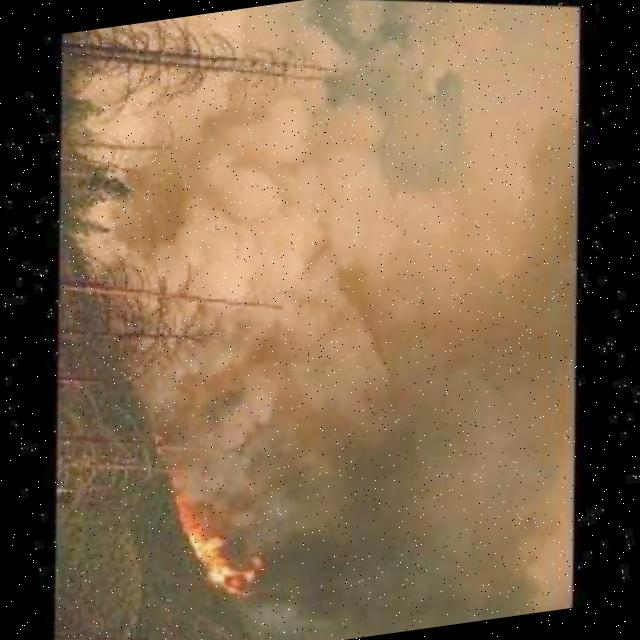fire: (207, 413, 584, 640), (166, 477, 288, 616)
